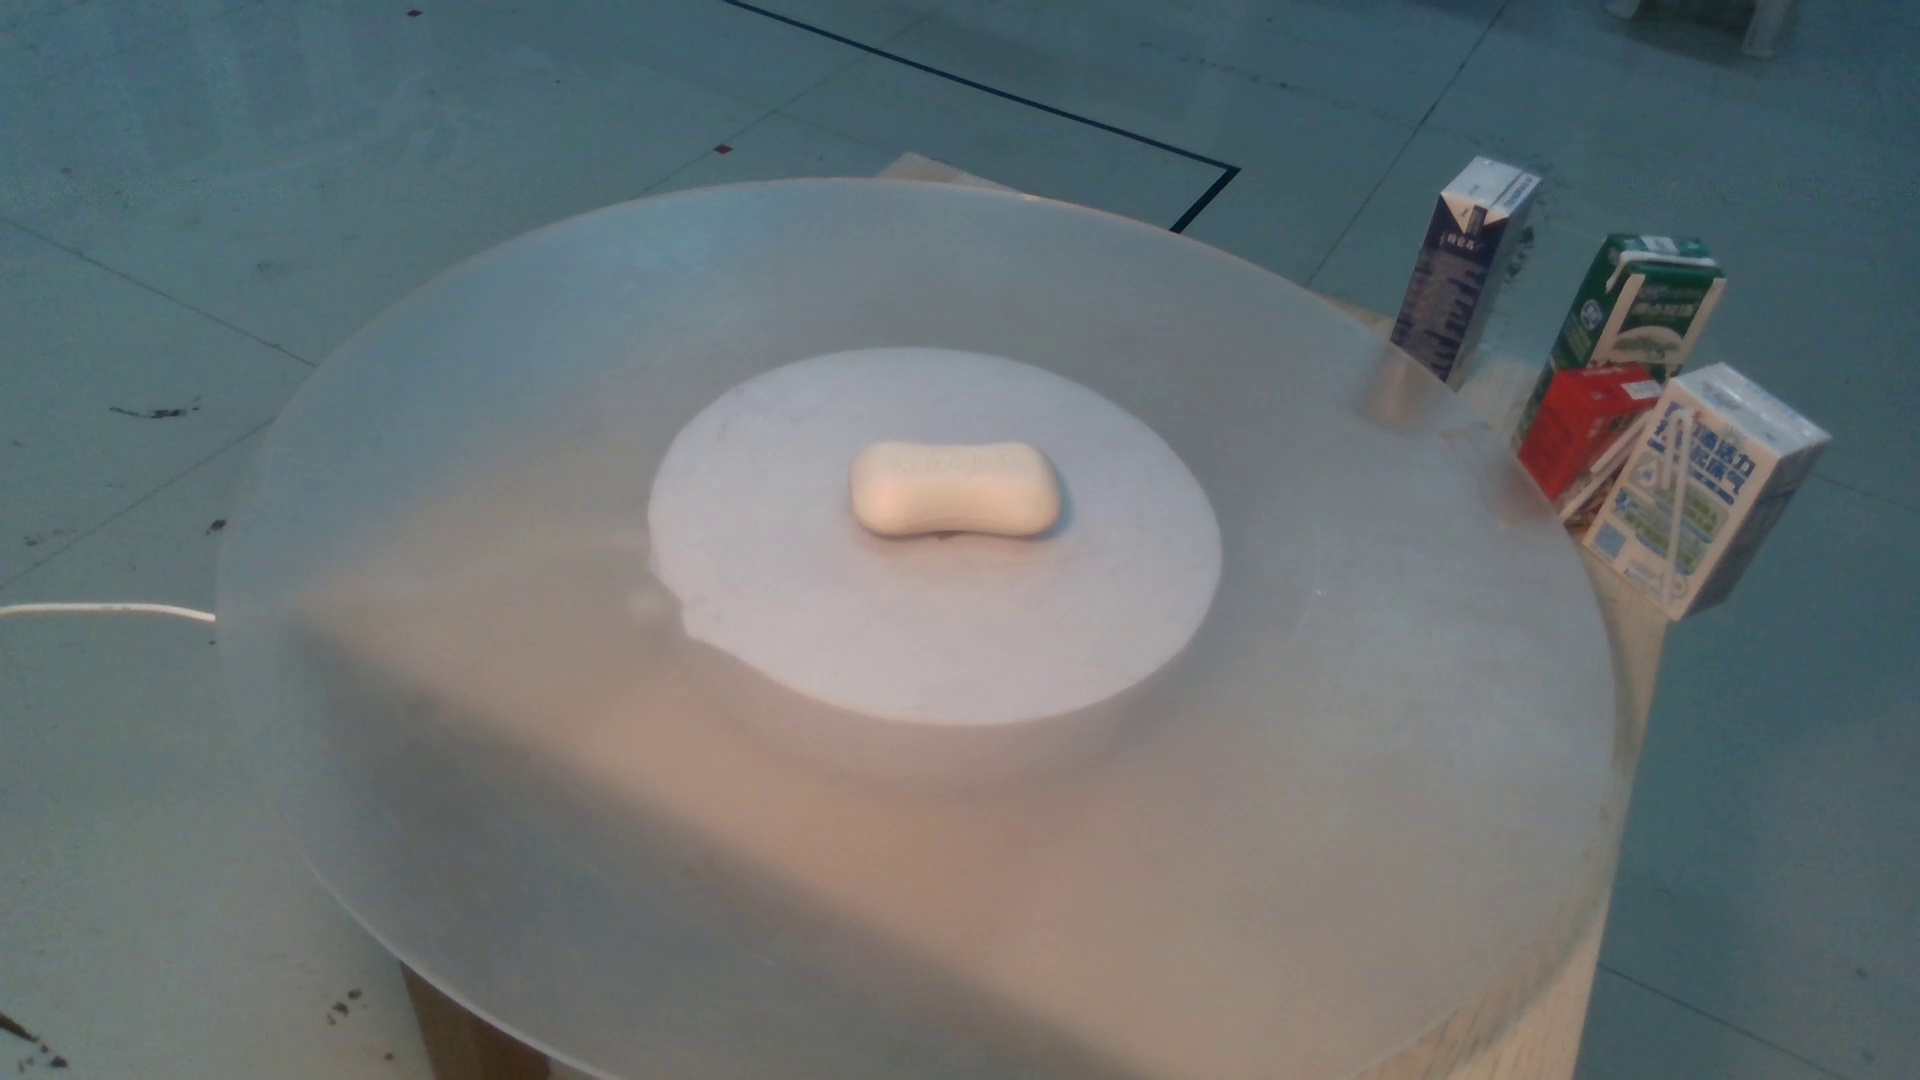CA003_1: (829, 423, 1077, 545)
